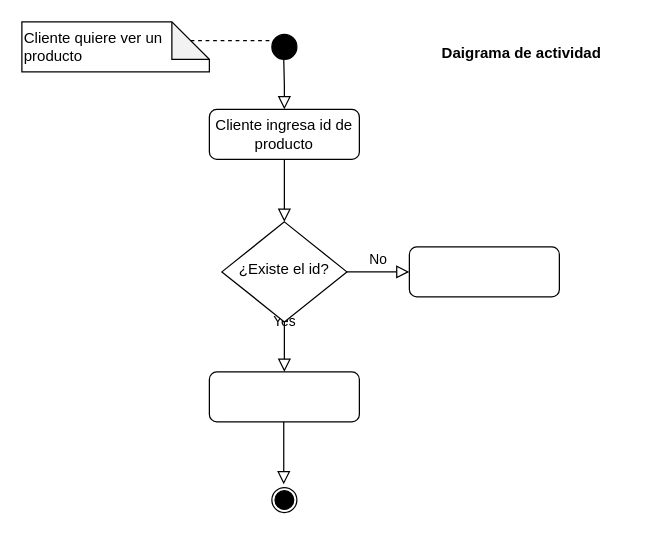
This 656x535 diagram has some shape labels left out. The box of each missing label's shape, as (x1, y1, x2, y2) in pixels:
NotFoundException: (408, 246, 559, 297)
Se retorna el producto: (208, 371, 359, 422)
